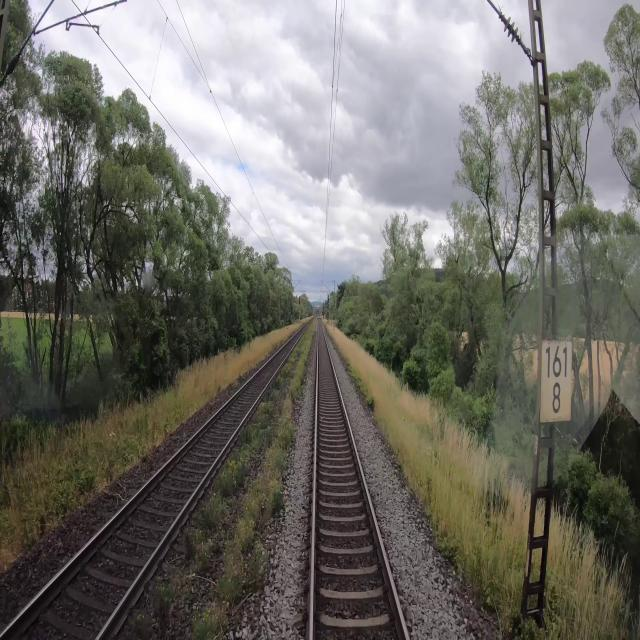Plant: (116, 318, 317, 639)
